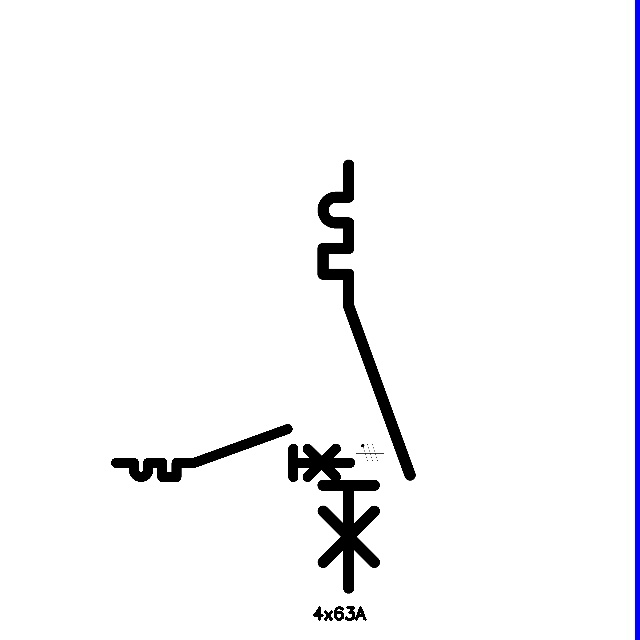interruptor_termomagnetico: (312, 154, 421, 599), (110, 423, 356, 483)
